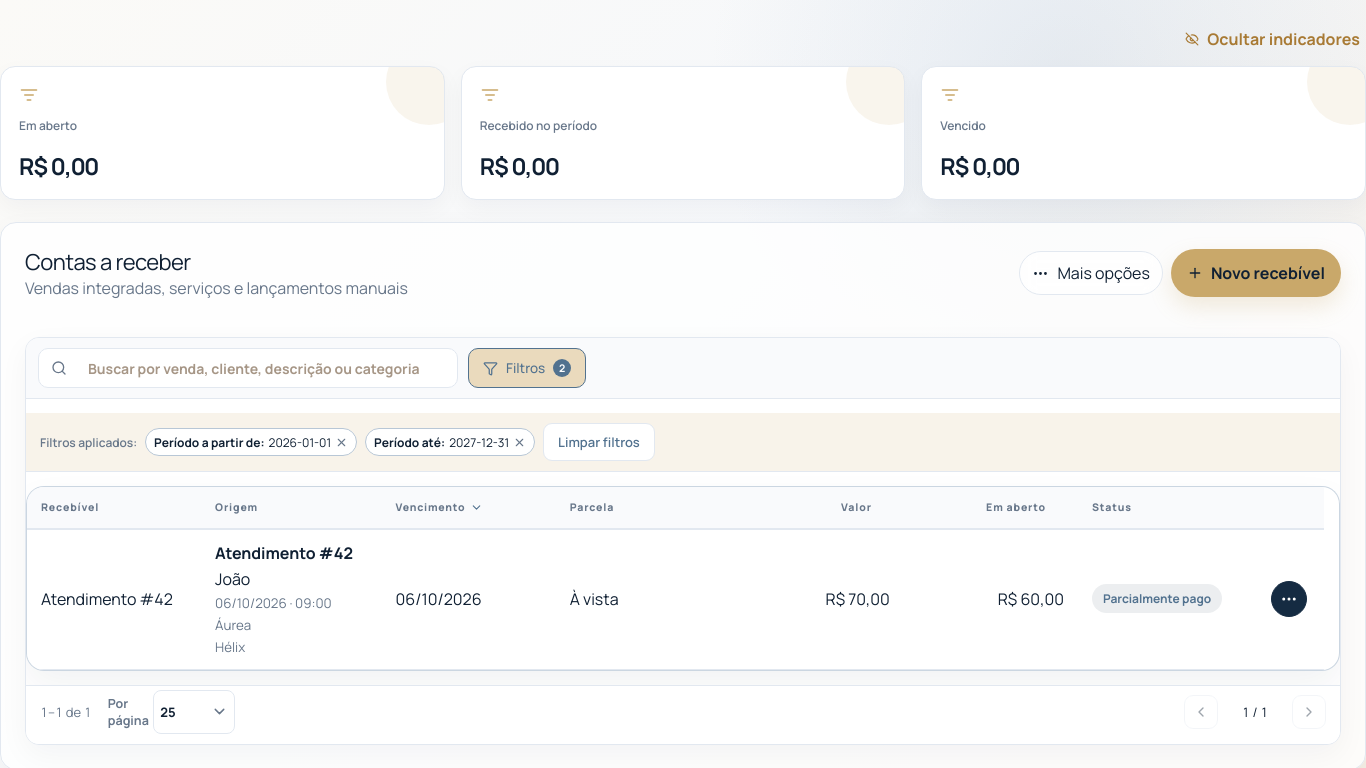
recebível identifica cliente e atendimento, mostra pagamentos e abre o registro específico
This screenshot has width=1366, height=768.
Expected: the text "João" is shown, [215, 568, 250, 590]
Click the button named "Mais ações": (1289, 599) [1271, 581, 1307, 617]
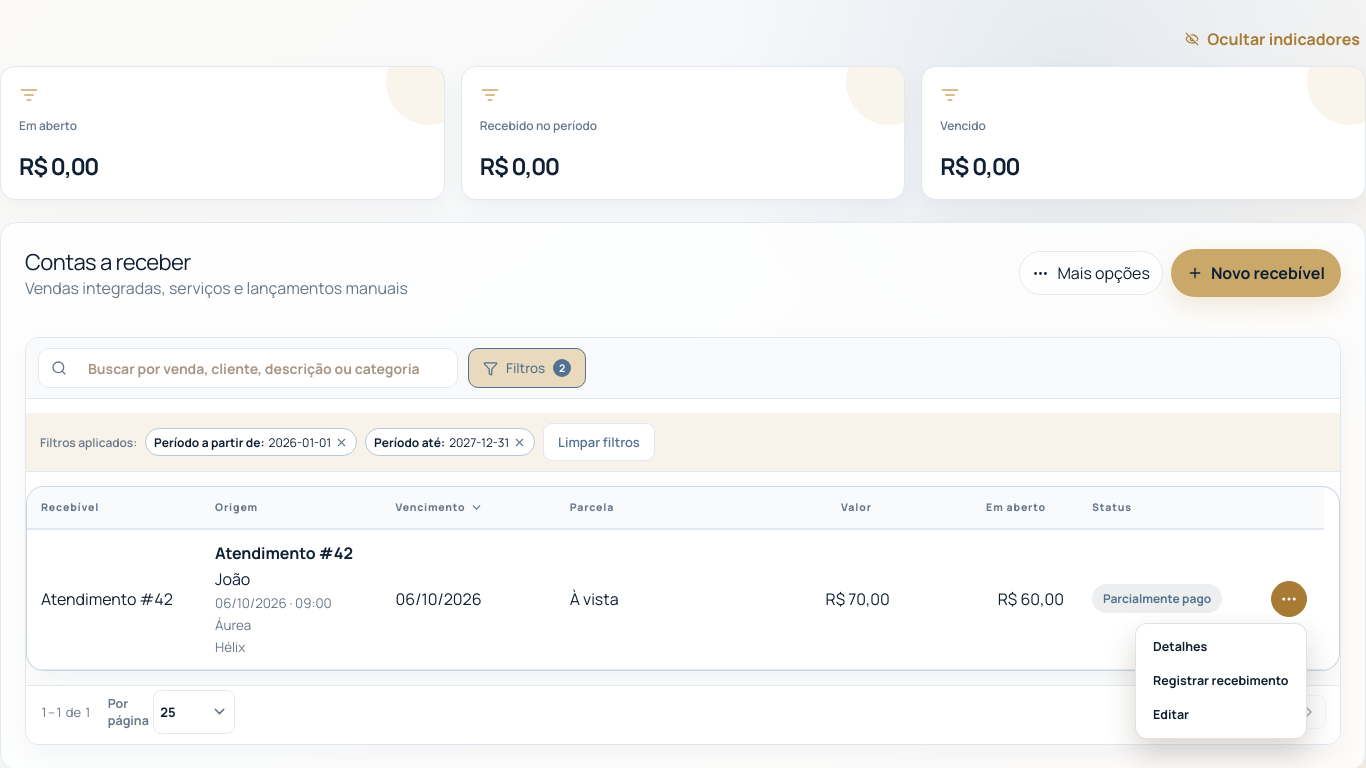
Click the menu item "Detalhes": (1221, 647) [1142, 630, 1300, 664]
(page scrolled)
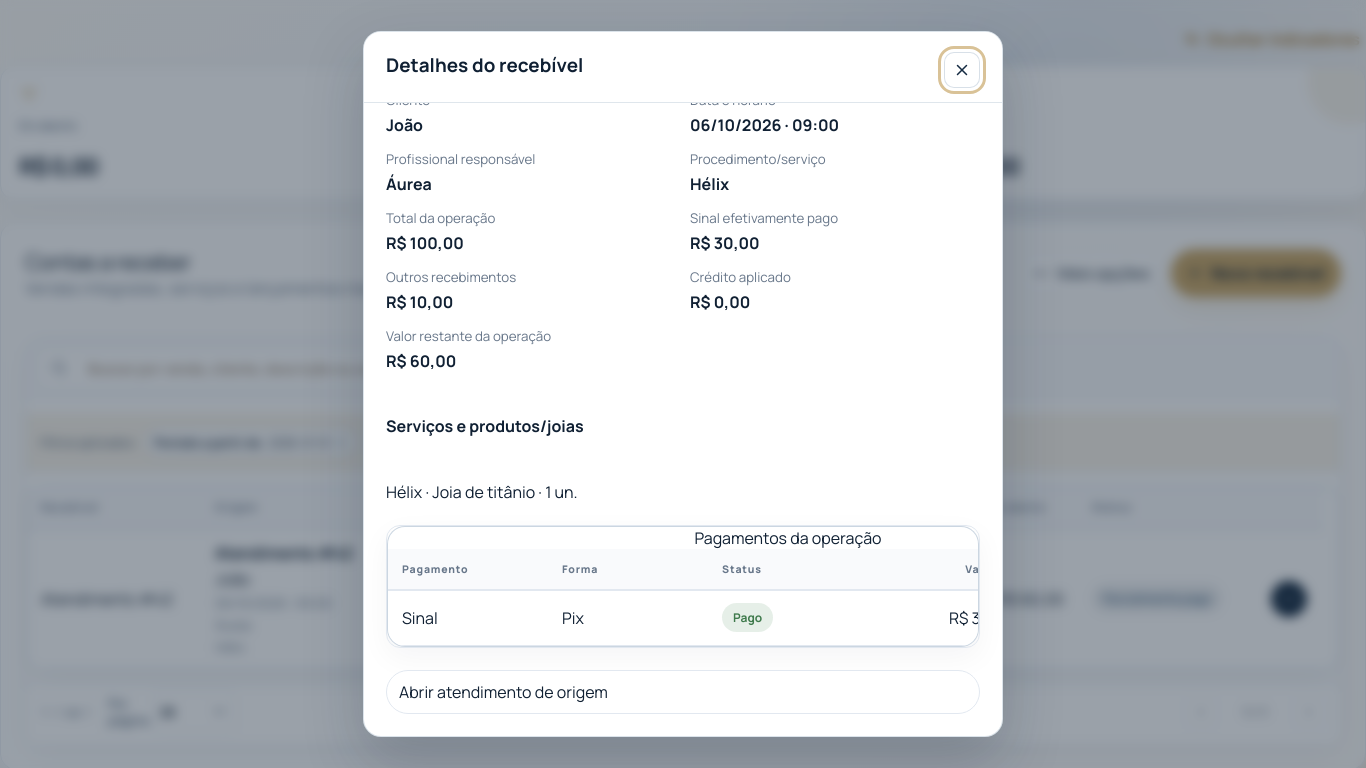
Now the text "Sinal efetivamente pago" is shown, box [690, 209, 838, 227]
Now the text "Outros recebimentos" is shown, box [386, 268, 516, 286]
Now the text "Valor restante da operação" is shown, box [386, 327, 551, 345]
